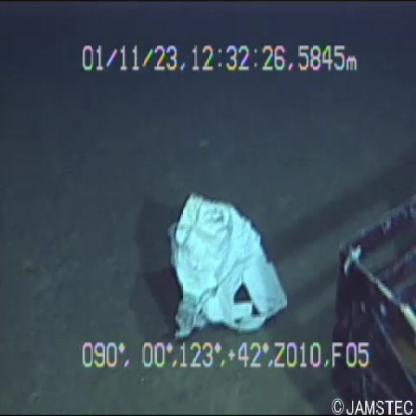Rov: (326, 178, 416, 416)
Rác: (140, 189, 298, 348)
